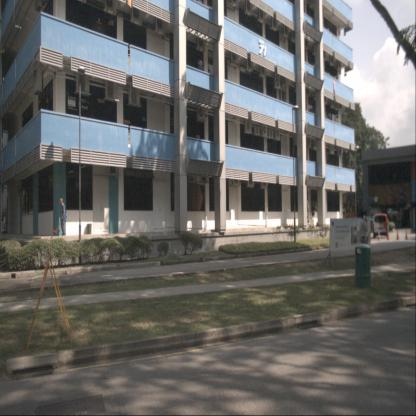human-pedestrian-adult: (52, 198, 66, 236), (360, 212, 368, 269)
movable_object-trafficcone: (396, 229, 400, 240), (404, 230, 408, 240), (386, 231, 390, 240), (376, 231, 380, 240)
vehicle-car: (372, 213, 389, 238)
